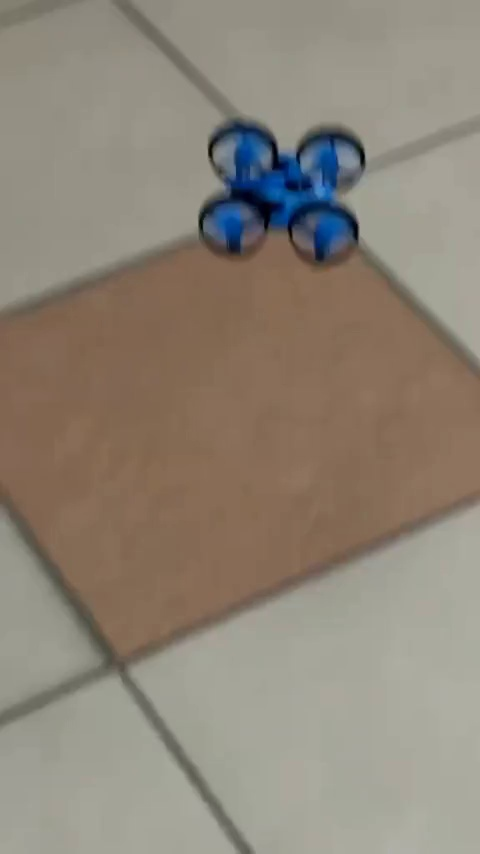drone: (197, 121, 364, 271)
